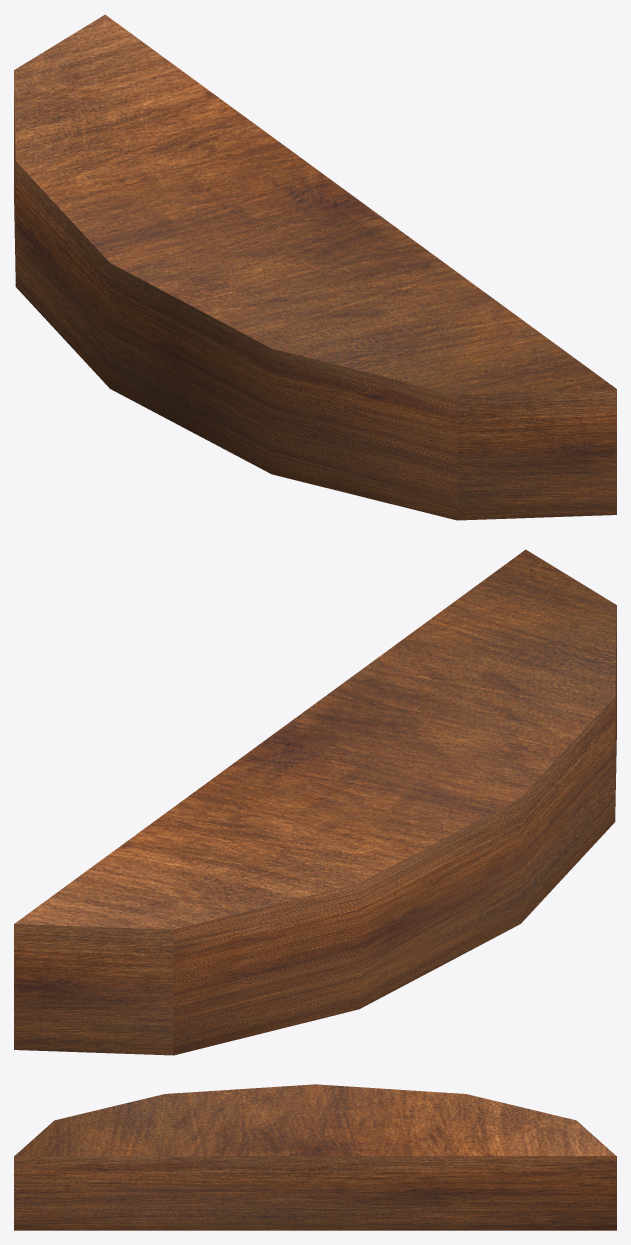
The model's file is MiniEstantePared.fbx.
The picture shows the model from 3 angles, top to bottom: view 1: azimuth 30°, elevation 25°; view 2: azimuth 150°, elevation 25°; view 3: azimuth 270°, elevation 25°; orthographic projection. The views are drawn at different scales.
Visible parts, largest first — view 1: Mini Estante; view 2: Mini Estante; view 3: Mini Estante.
Part boxes in pixels (bbox=[...]): Mini Estante: bbox=[14, 14, 616, 520]; Mini Estante: bbox=[14, 549, 616, 1055]; Mini Estante: bbox=[14, 1084, 616, 1230].
Size of the model in its own units: 50.25 by 24.08 by 177.
1 material, 1 textured.
